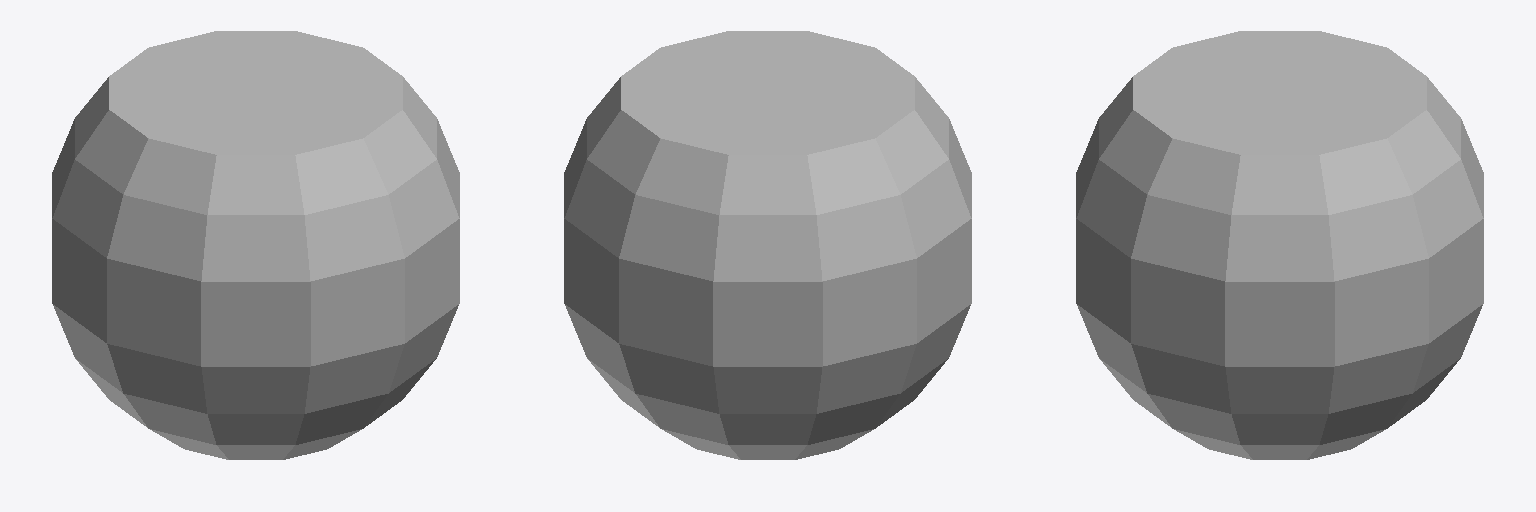
Rendered from Tantares_Habitation_1_Collider.obj.
3 views of the same model, side by side, from view 1: azimuth 30°, elevation 25°; view 2: azimuth 150°, elevation 25°; view 3: azimuth 270°, elevation 25° (orthographic).
Visible parts, largest first — view 1: Tantares_Habitation_1_Collider; view 2: Tantares_Habitation_1_Collider; view 3: Tantares_Habitation_1_Collider.
Part boxes in pixels (x1,y1,x2,y2): Tantares_Habitation_1_Collider: (52,31,459,459); Tantares_Habitation_1_Collider: (564,31,971,459); Tantares_Habitation_1_Collider: (1076,31,1483,459).
Bounding box in the file's own units: 1.3 × 1.15 × 1.3.